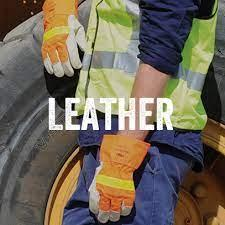gloves: (88, 134, 151, 225), (41, 1, 87, 77)
